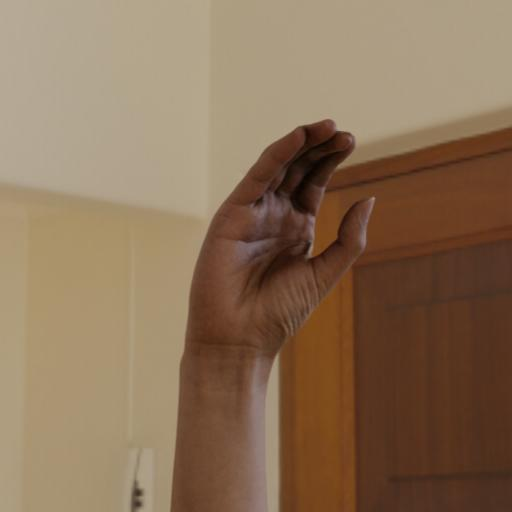C: (168, 101, 381, 495)
